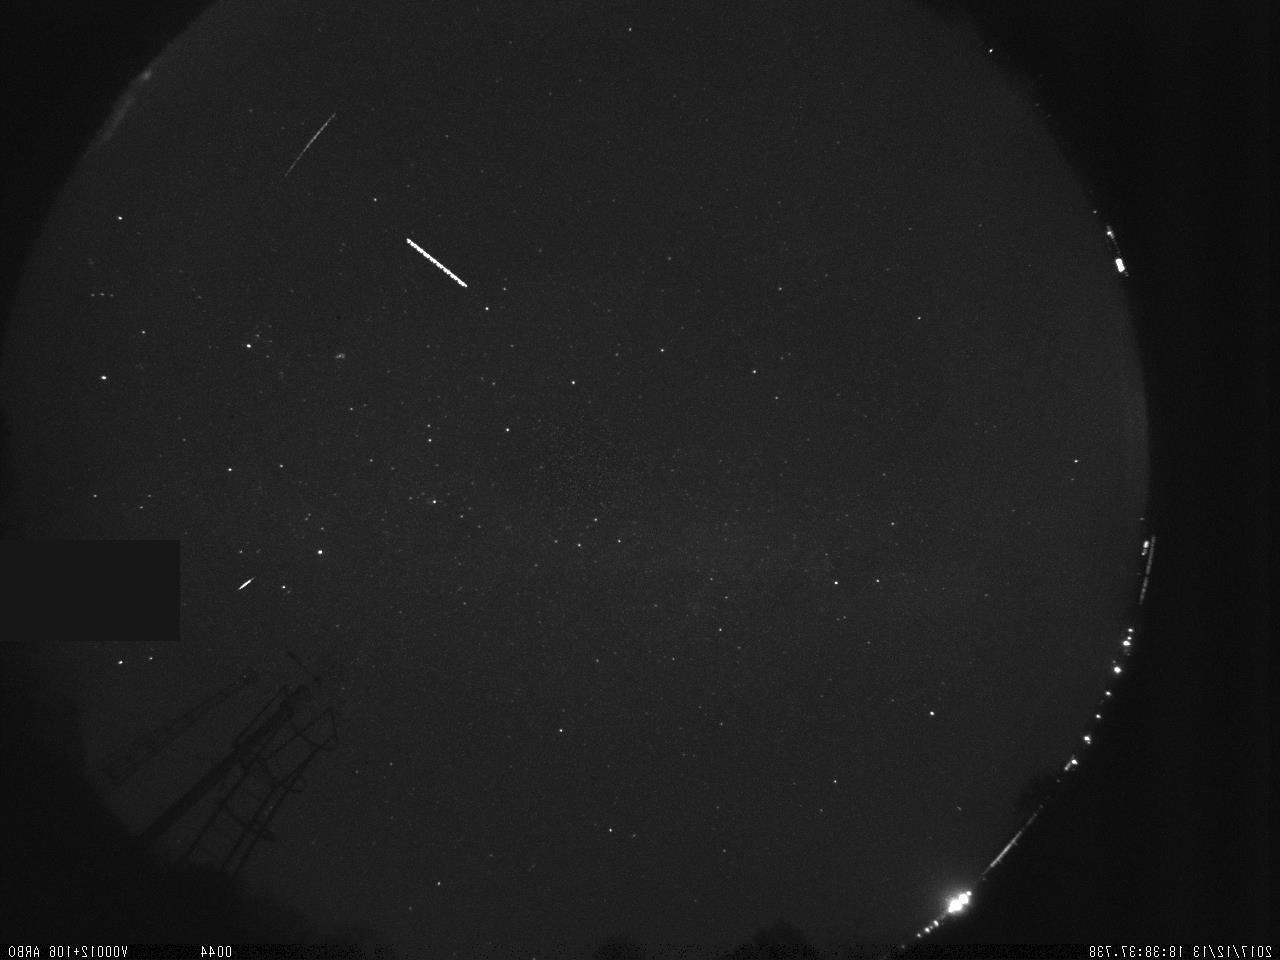meteor: (235, 571, 257, 597)
satelite: (273, 106, 344, 185), (402, 232, 474, 298)
